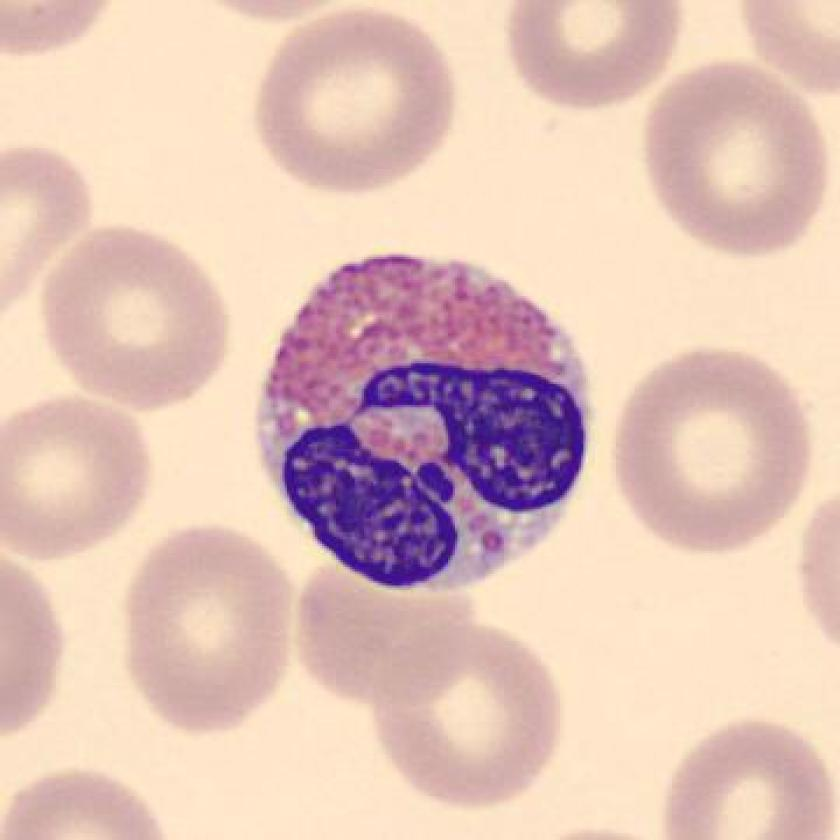eosinophil: (241, 237, 603, 603)
